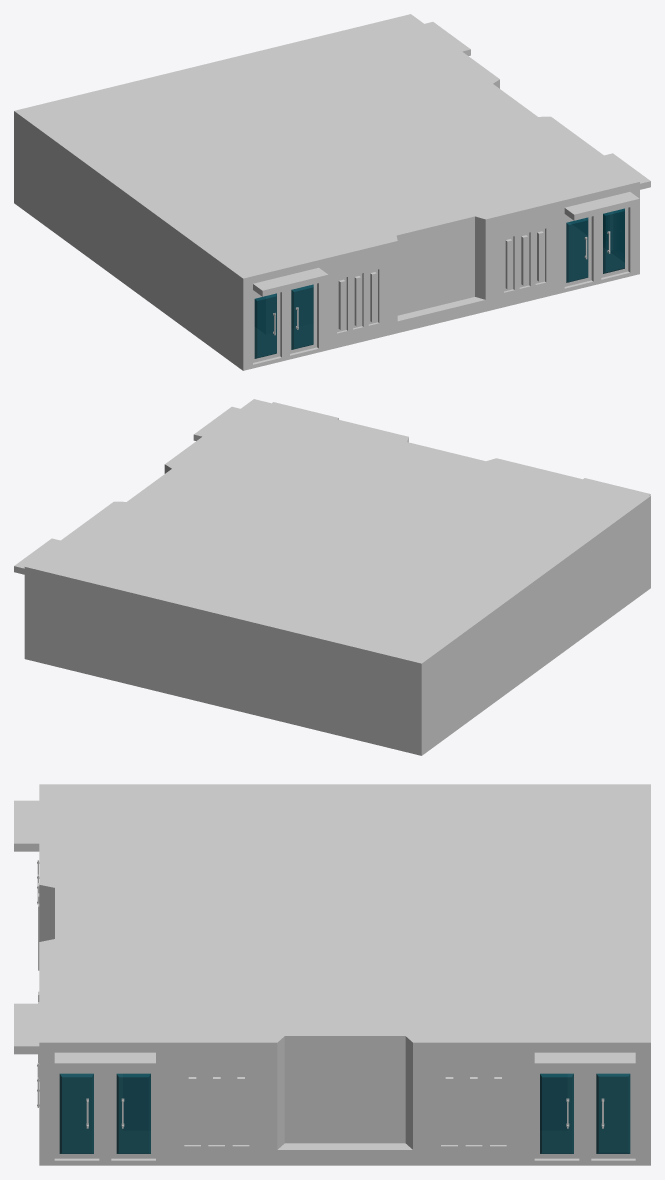
File: building_office_corner_03_base.fbx
3 renders of one model, top to bottom at view 1: azimuth 30°, elevation 25°; view 2: azimuth 150°, elevation 25°; view 3: azimuth 270°, elevation 25°, orthographic. The views are drawn at different scales.
Visible parts, largest first — view 1: building_office_corner_03_base, building_office_corner_03_glass; view 2: building_office_corner_03_base; view 3: building_office_corner_03_base, building_office_corner_03_glass.
Part boxes in pixels (box(x1,y1,x2,y2)): building_office_corner_03_base: box(14, 14, 650, 370); building_office_corner_03_glass: box(254, 208, 624, 358); building_office_corner_03_base: box(14, 399, 650, 755); building_office_corner_03_base: box(14, 784, 650, 1165); building_office_corner_03_glass: box(59, 1073, 630, 1153).
Size of the model in its own units: 1875 by 400 by 1875.
